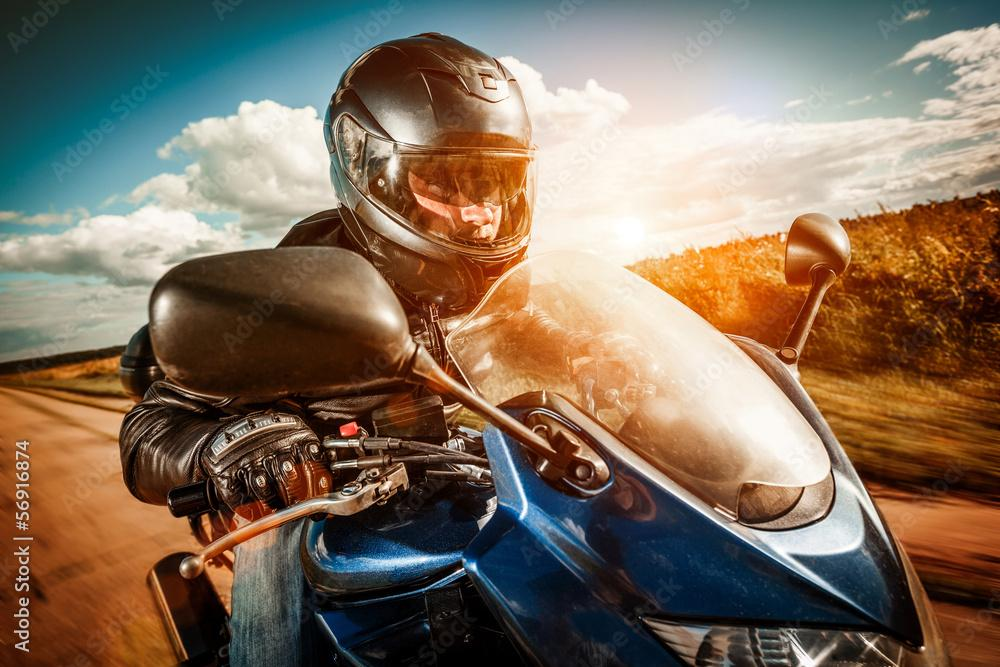helmet: (322, 31, 541, 326)
